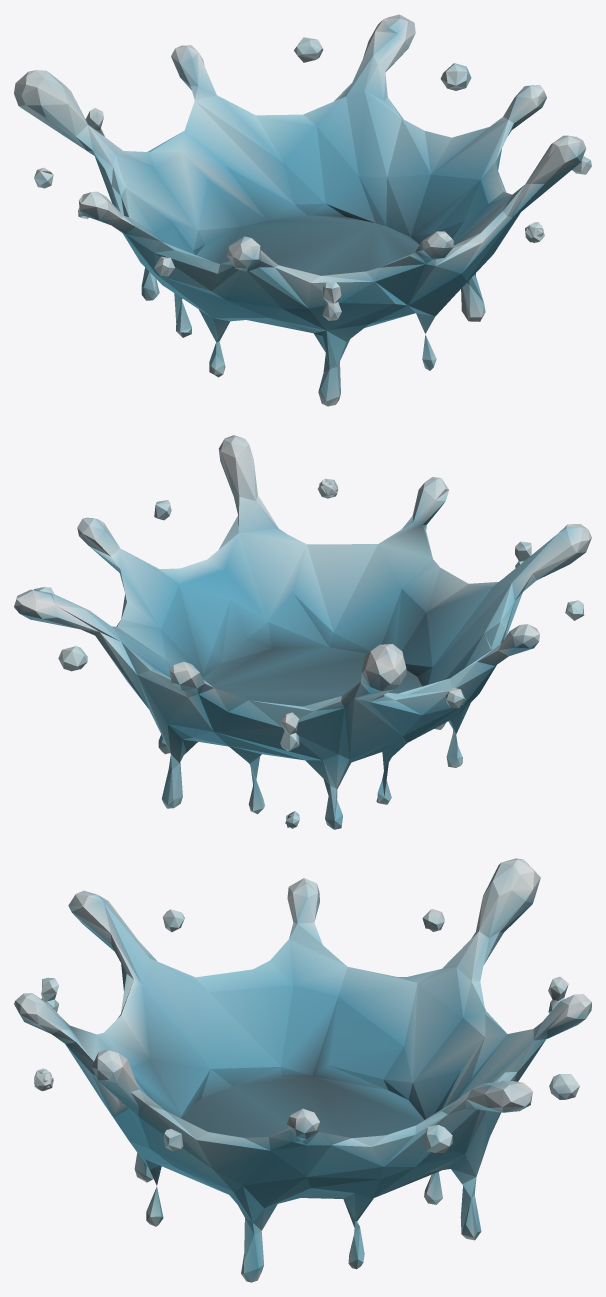
File: vfx_crown.glb
The picture shows the model from 3 angles, top to bottom: view 1: azimuth 30°, elevation 25°; view 2: azimuth 150°, elevation 25°; view 3: azimuth 270°, elevation 25°; orthographic projection. The views are drawn at different scales.
Size of the model in its own units: 1.89 by 0.9278 by 1.89.
